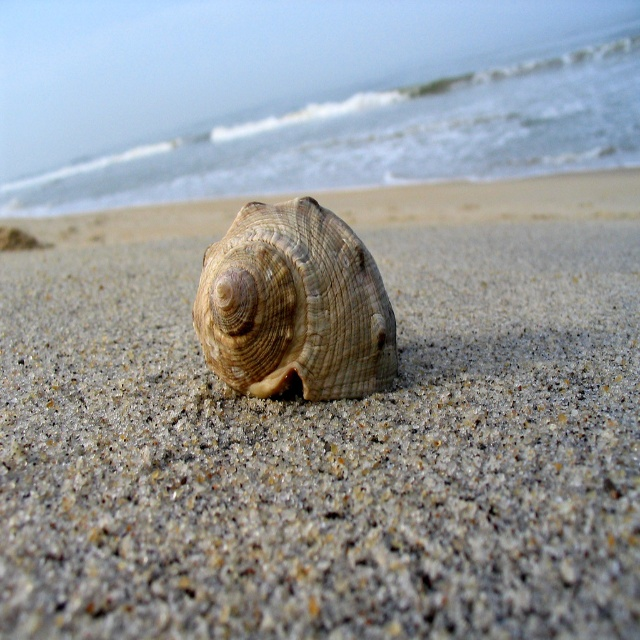Snail: (182, 180, 404, 405)
